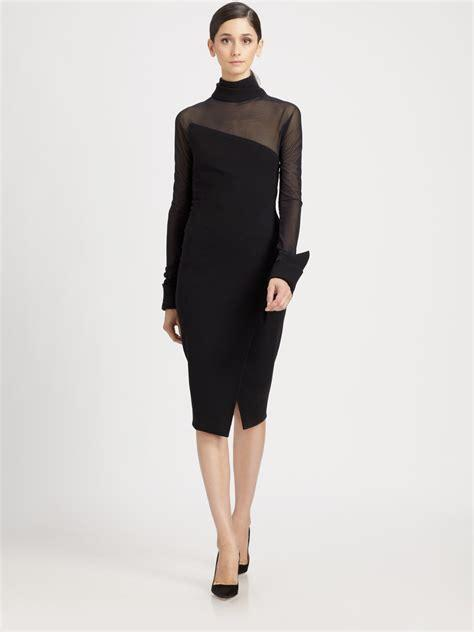dress: (162, 71, 311, 437)
